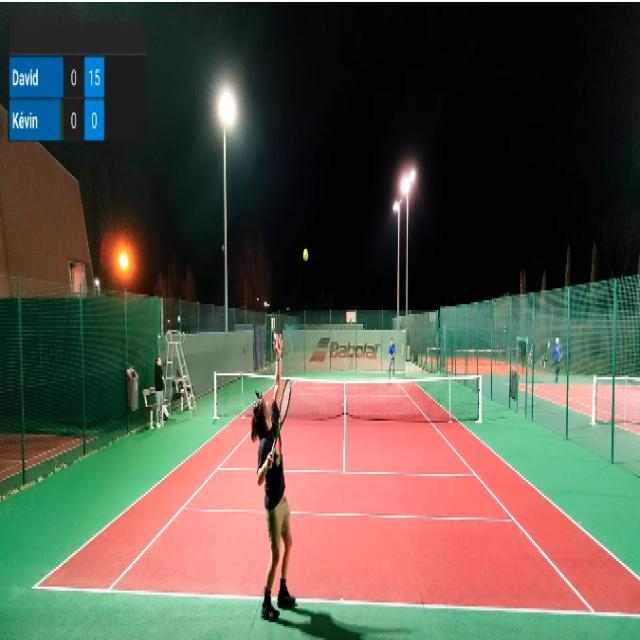ball: (304, 248, 308, 261)
